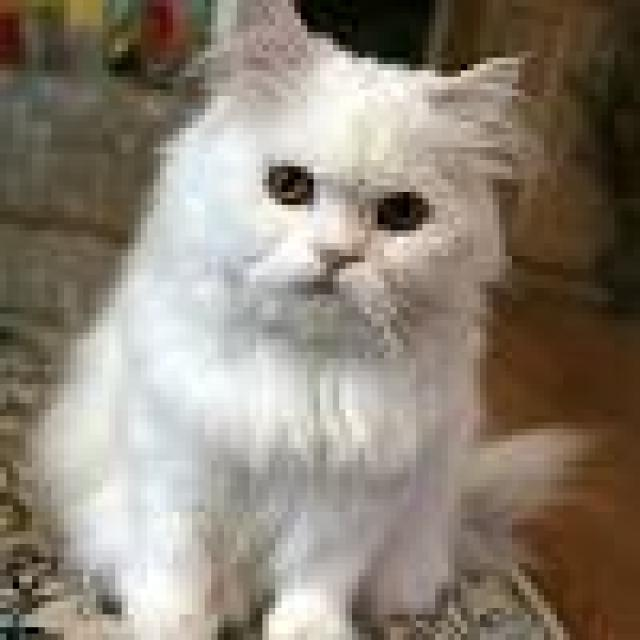Cat: (26, 1, 540, 640)
